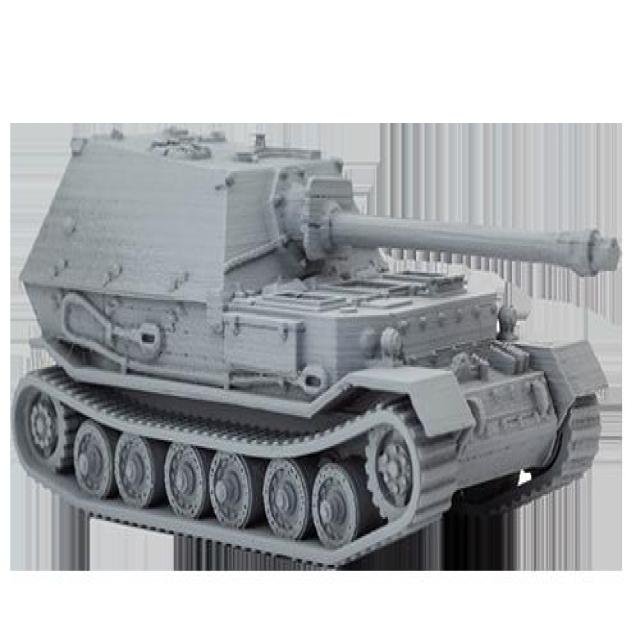Without deffect: (14, 132, 620, 568)
